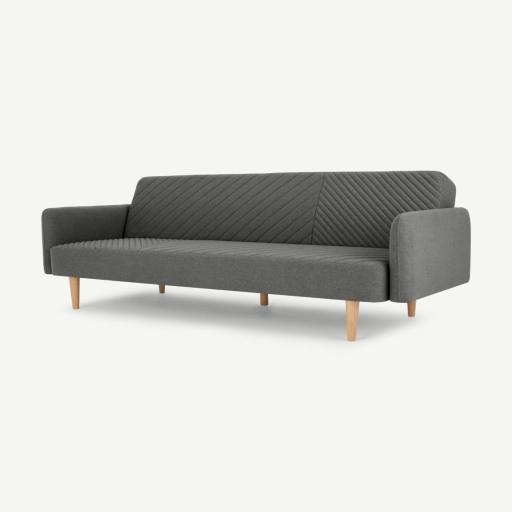back_cushion: (124, 171, 455, 248)
left_arm: (390, 208, 470, 316)
legs: (346, 301, 358, 341), (69, 277, 80, 309), (408, 301, 415, 317), (261, 293, 267, 305), (159, 285, 164, 293)
one-seater: (42, 171, 469, 341)
right_arm: (42, 205, 129, 274)
seat_cushion: (52, 240, 388, 302)
